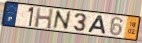1: (27, 7, 35, 28)
3: (72, 13, 89, 33)
6: (109, 16, 125, 37)
A: (87, 15, 107, 36)
H: (33, 7, 55, 31)
N: (52, 10, 72, 31)
